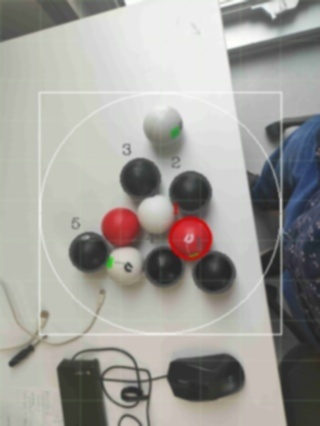Pelota blanca: (100, 345, 153, 408), (0, 0, 81, 41), (143, 103, 185, 147), (103, 244, 145, 286), (135, 193, 174, 235), (116, 411, 143, 425)
Pelota negra: (164, 353, 246, 403), (191, 249, 238, 294), (167, 169, 211, 214), (119, 156, 161, 198), (143, 246, 185, 288), (68, 230, 110, 272)
Pelota roja: (167, 214, 214, 262), (100, 206, 142, 248)
